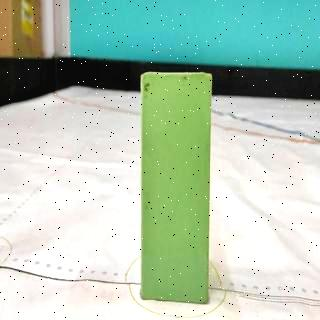greenbox: (141, 72, 210, 306)
